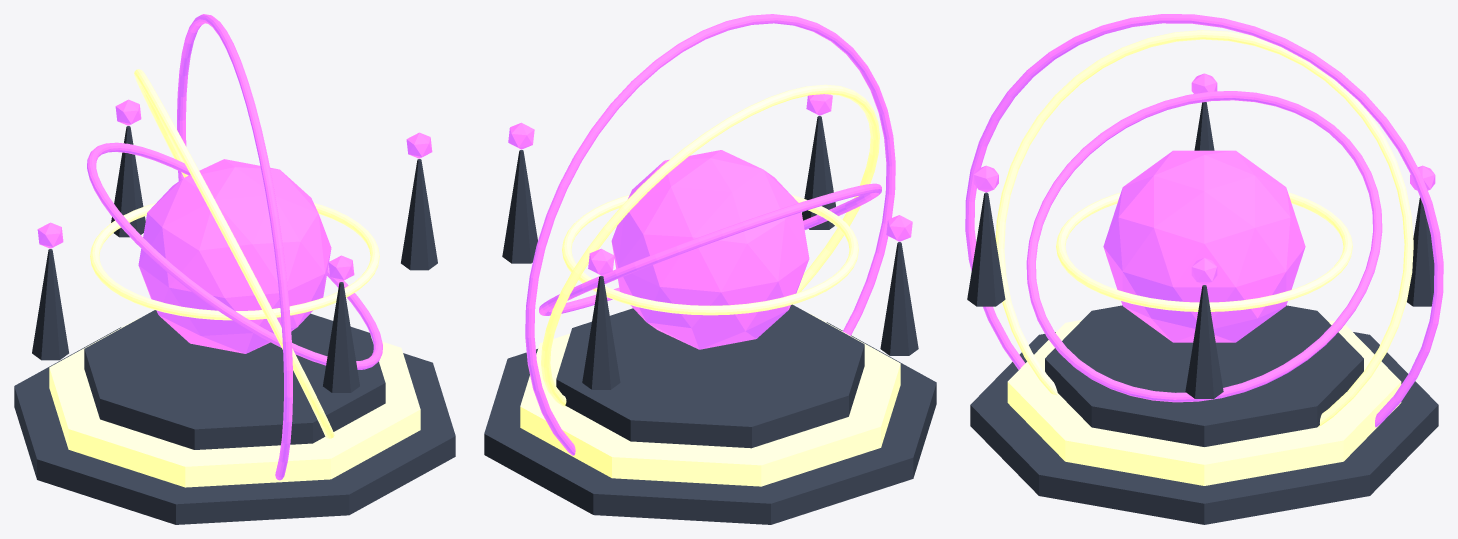
File: gpu-blender-v25.glb
3 renders of one model, left to right at view 1: azimuth 30°, elevation 25°; view 2: azimuth 150°, elevation 25°; view 3: azimuth 270°, elevation 25°, orthographic. The views are drawn at different scales.
Visible parts, largest first — view 1: Cylinder.002, SovereignCore_aeo-graph-engine, Cylinder, Cylinder.001, Torus.003, Torus.001, Torus.002, Torus, Cone, Cone.002, Cone.003, Cone.001 (+4 smaller); view 2: Cylinder.002, SovereignCore_aeo-graph-engine, Cylinder, Cylinder.001, Torus.003, Torus.002, Torus, Torus.001, Cone.001, Cone.002, Cone, Cone.003 (+3 smaller); view 3: SovereignCore_aeo-graph-engine, Cylinder.002, Cylinder, Cylinder.001, Torus.001, Torus.003, Torus.002, Torus, Cone.003, Cone, Cone.001, Cone.002 (+2 smaller).
Part boxes in pixels (x1,y1,x2,y2): Cylinder.002: (84,310,385,449); SovereignCore_aeo-graph-engine: (138,159,331,353); Cylinder: (14,327,455,524); Cylinder.001: (49,318,420,487); Torus.003: (177,14,292,480); Torus.001: (87,142,382,369); Torus.002: (134,69,334,438); Torus: (90,203,379,320); Cone: (401,159,437,270); Cone.002: (32,249,68,360); Cone.003: (323,282,359,392); Cone.001: (111,126,145,237); Cylinder.002: (556,304,864,448); SovereignCore_aeo-graph-engine: (611,150,809,349); Cylinder: (484,322,936,524); Cylinder.001: (520,313,900,486); Torus.003: (525,14,895,455); Torus.002: (541,84,879,406); Torus: (562,195,858,315); Torus.001: (539,183,881,315); Cone.001: (582,276,620,389); Cone.002: (880,242,918,355); Cone: (502,150,537,263); Cone.003: (802,116,835,229); SovereignCore_aeo-graph-engine: (1103,150,1305,342); Cylinder.002: (1045,305,1363,446); Cylinder: (970,332,1438,524); Cylinder.001: (1007,320,1401,485); Torus.001: (1026,91,1382,402); Torus.003: (965,14,1443,427); Torus.002: (995,30,1413,426); Torus: (1056,192,1352,311); Cone.003: (967,192,1005,306); Cone: (1185,285,1223,398); Cone.001: (1407,197,1434,306); Cone.002: (1194,102,1214,150).
Bounding box in the file's own units: 4.41 × 4.7 × 4.49.
